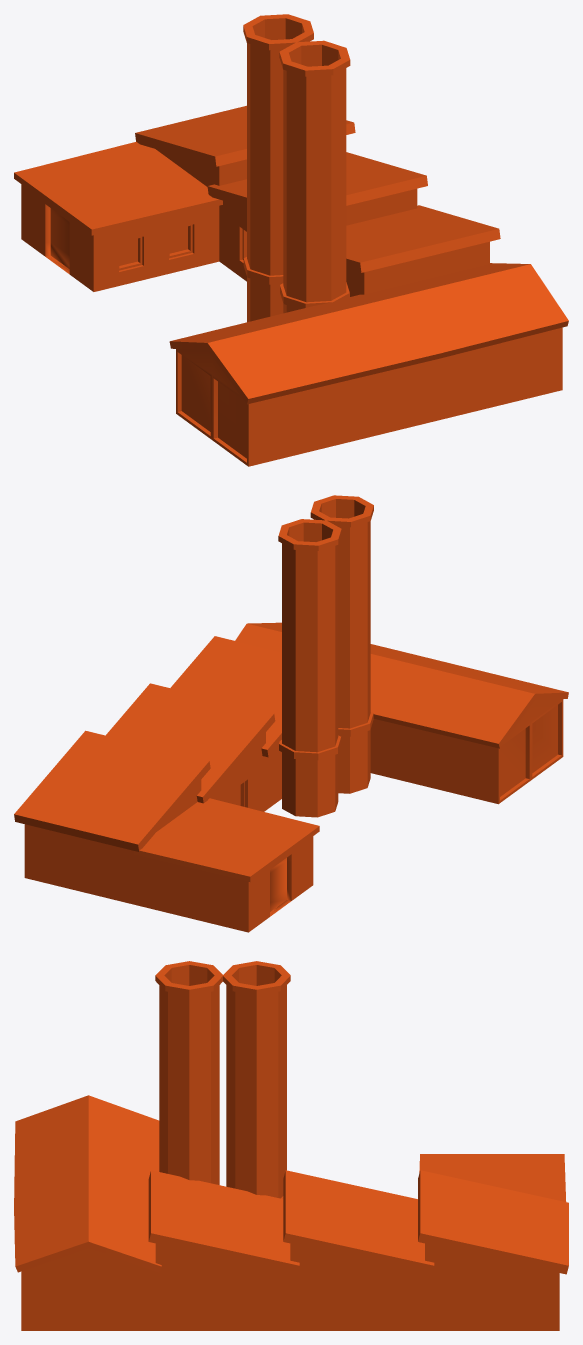
Rendered from Factory.fbx.
3 views of the same model, one above another, from view 1: azimuth 30°, elevation 25°; view 2: azimuth 150°, elevation 25°; view 3: azimuth 270°, elevation 25° (orthographic). The views are drawn at different scales.
Parts seen in each view (by area): view 1: Factory OK; view 2: Factory OK; view 3: Factory OK.
Part boxes in pixels (x1,y1,x2,y2): Factory OK: (14, 14, 568, 466); Factory OK: (14, 495, 568, 932); Factory OK: (14, 961, 568, 1330).
Size of the model in its own units: 518 by 466 by 825.
